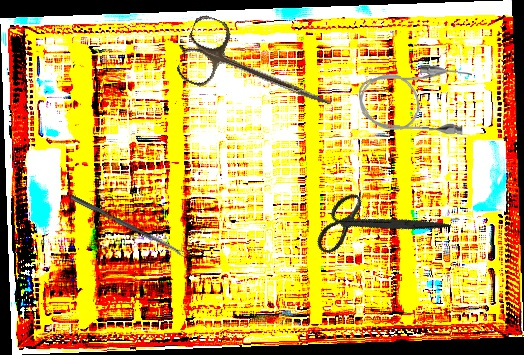Cannula: (357, 63, 473, 135)
Iris Scissors: (173, 12, 345, 133), (303, 156, 452, 294)
Surgical Spoon: (67, 193, 188, 259)
